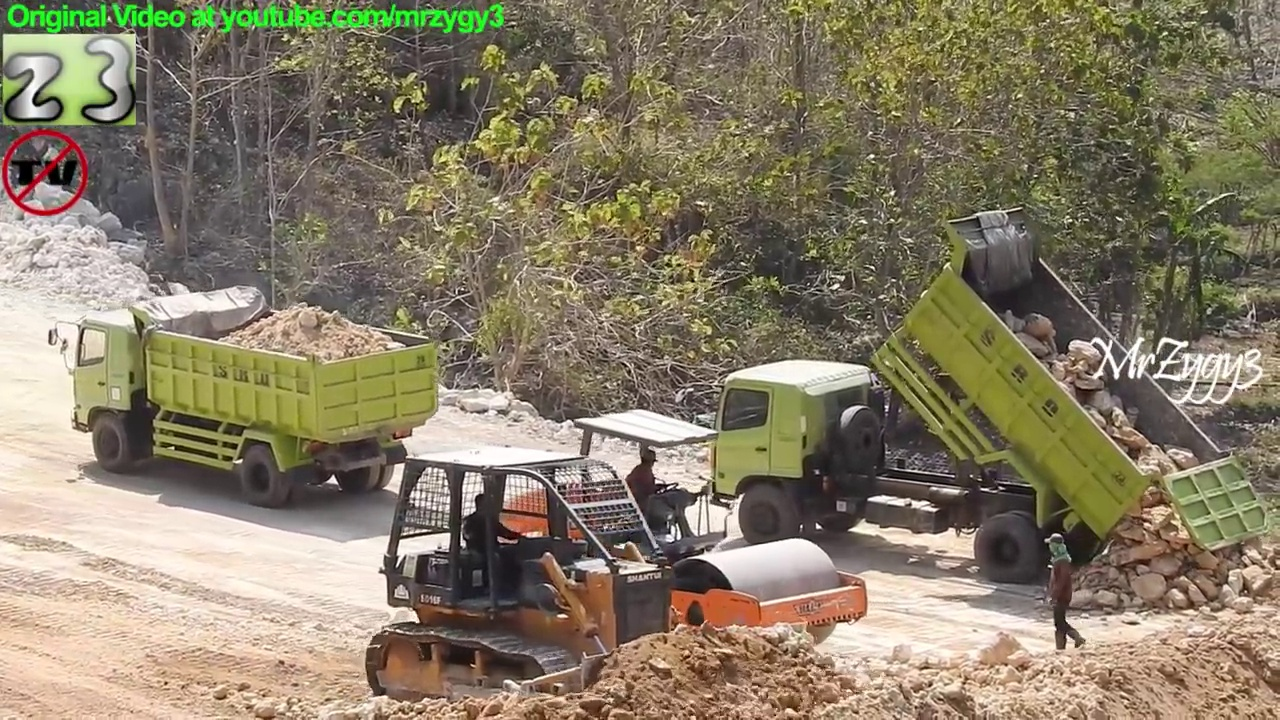bulldozer: (360, 438, 816, 720)
compactor: (475, 406, 874, 672)
truck: (685, 198, 1280, 595), (44, 279, 447, 513)
